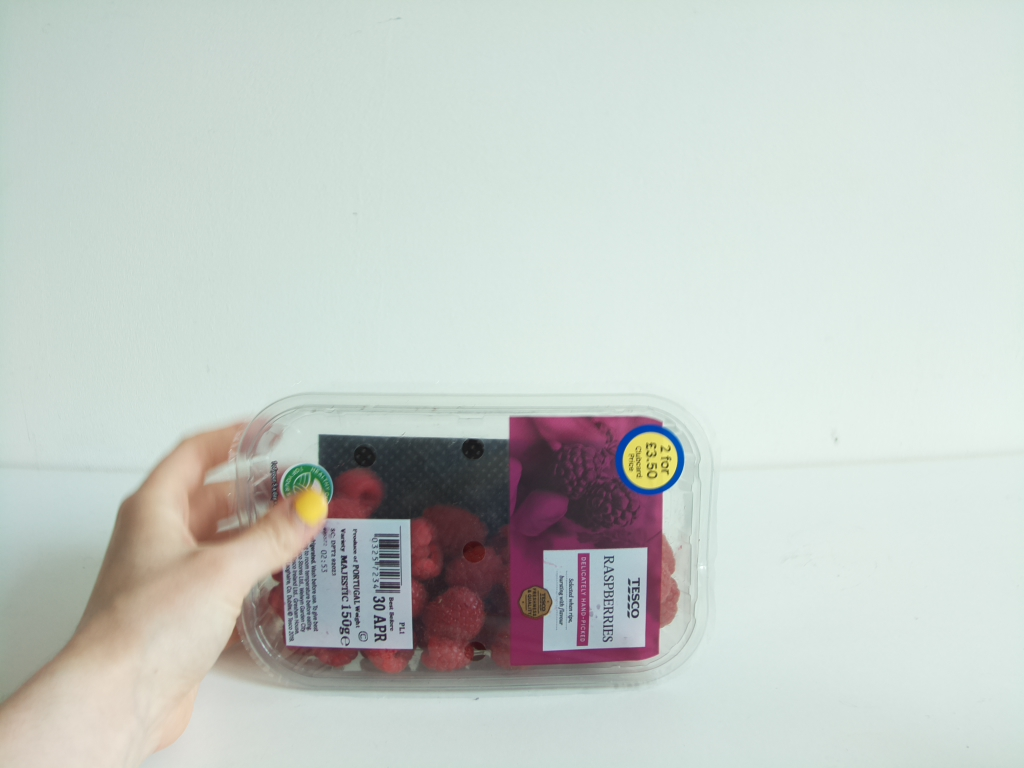soft-fruit: (233, 387, 717, 698)
